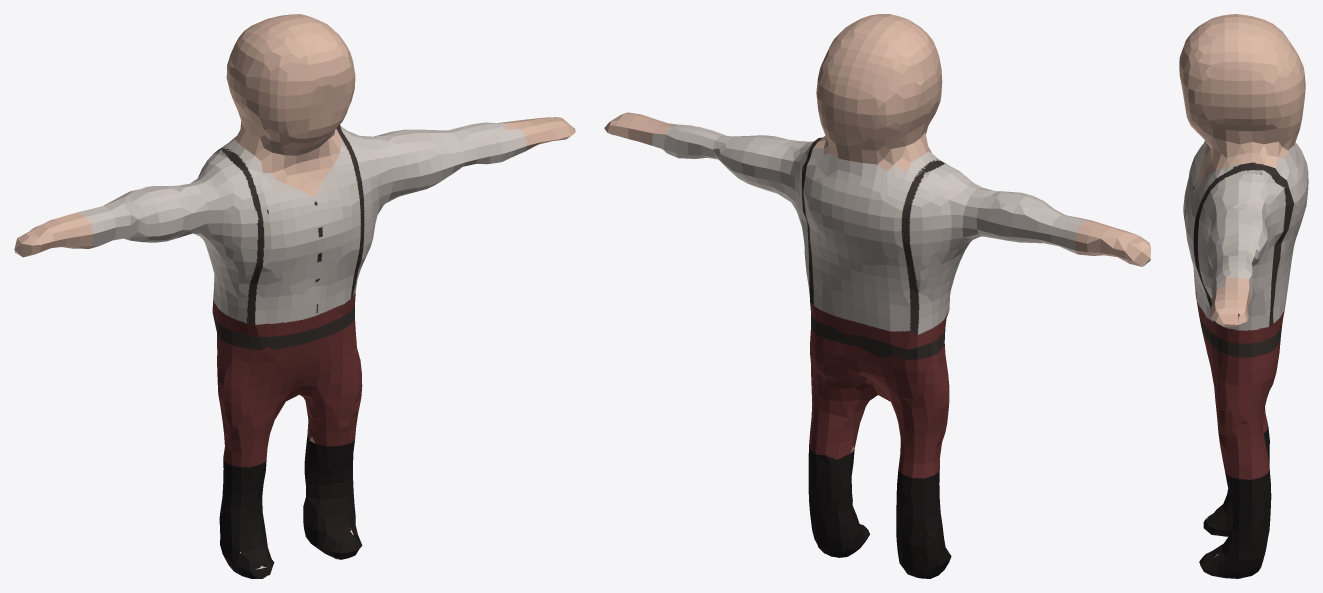
File: thug_0.fbx
3 views of the same model, side by side, from view 1: azimuth 30°, elevation 25°; view 2: azimuth 150°, elevation 25°; view 3: azimuth 270°, elevation 25° (orthographic).
Visible parts, largest first — view 1: Cube.001; view 2: Cube.001; view 3: Cube.001.
Boxes of the visible parts, x1,y1,x2,y2 form: Cube.001: (14, 14, 575, 578); Cube.001: (604, 14, 1150, 578); Cube.001: (1179, 14, 1308, 578).
Size of the model in its own units: 674 by 633 by 139.
Materials: 1 (1 with a texture image).
